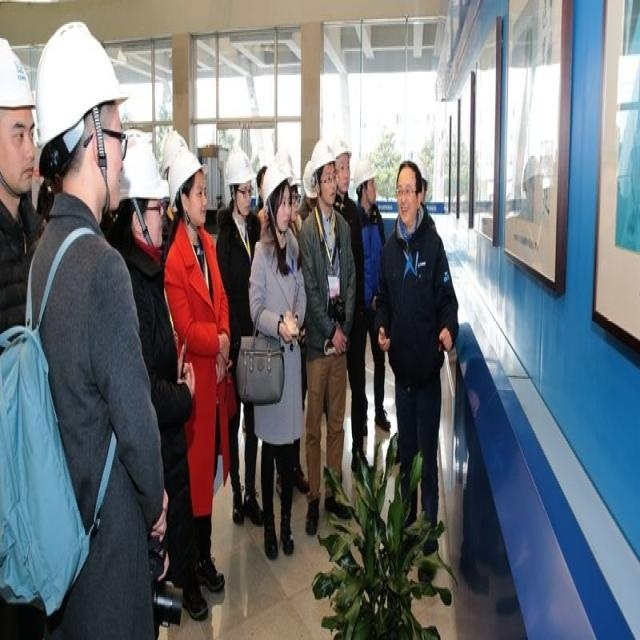Con_Casco: (170, 154, 210, 227), (264, 158, 296, 230)
Sin_Casco_Mascarrilla: (396, 160, 422, 225)
Sin_Chaleco: (381, 224, 449, 373)
